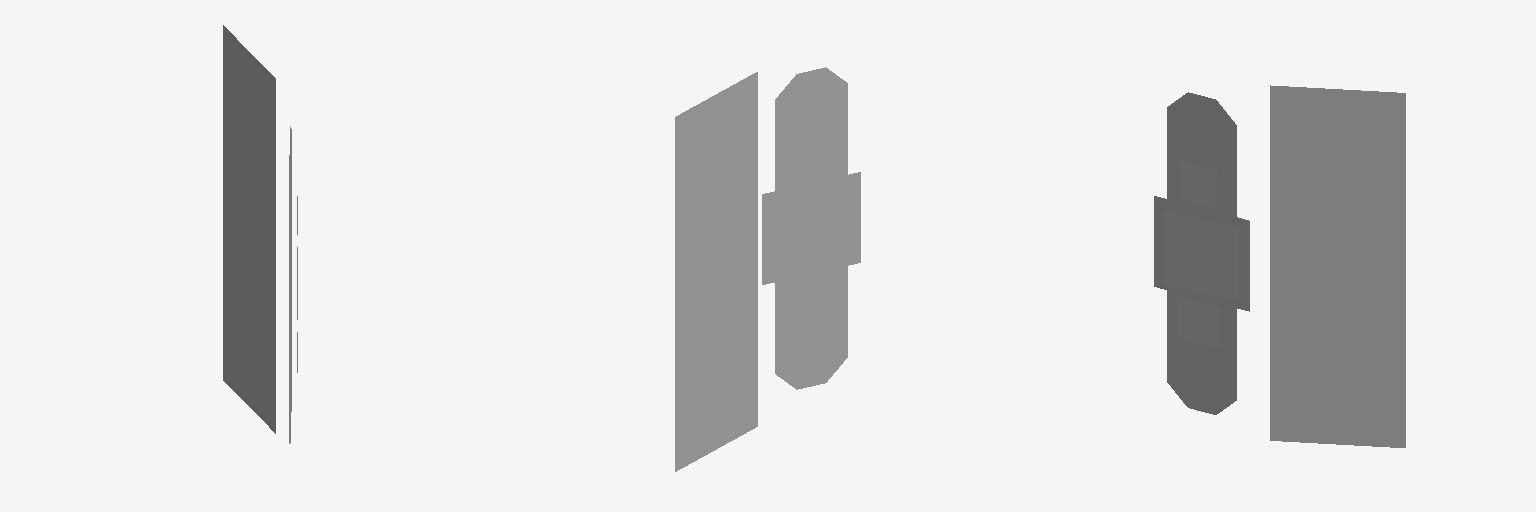
Rendered from screen.obj.
The picture shows the model from 3 angles: view 1: azimuth 30°, elevation 25°; view 2: azimuth 150°, elevation 25°; view 3: azimuth 270°, elevation 25°; orthographic projection.
Parts seen in each view (by area): view 1: Screen; view 2: Screen; view 3: Screen.
Part boxes in pixels (left/top/right/bottom): Screen: left=223, top=25, right=297, bottom=443; Screen: left=675, top=67, right=860, bottom=471; Screen: left=1154, top=85, right=1405, bottom=447.
Bounding box in the file's own units: 0.1532 × 0.8653 × 0.555.